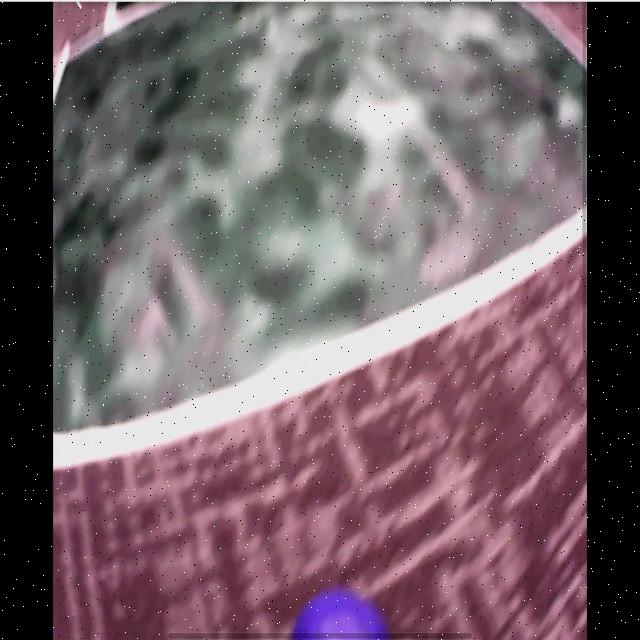ball: (294, 595, 387, 640)
